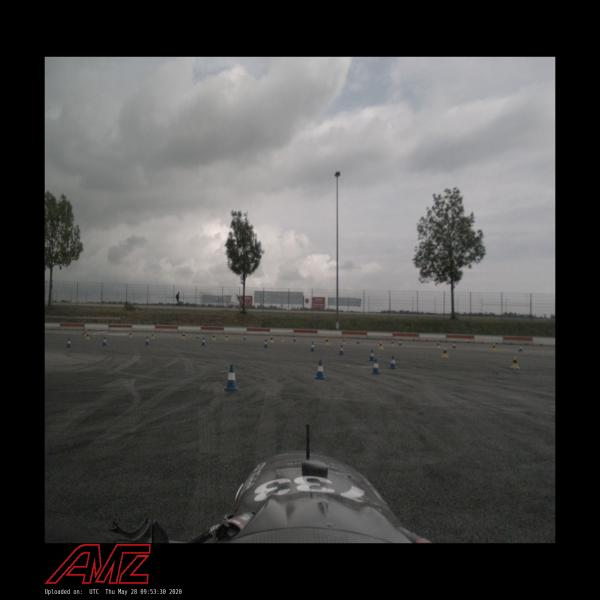blue_cone: (224, 364, 239, 392), (315, 360, 326, 380), (371, 358, 381, 374), (389, 355, 397, 369), (369, 350, 375, 362), (66, 337, 72, 348), (310, 342, 315, 352), (339, 345, 344, 355), (102, 337, 107, 346), (201, 337, 206, 346), (263, 339, 268, 348), (518, 344, 523, 352), (145, 336, 149, 345), (453, 341, 456, 348), (243, 333, 246, 340), (195, 332, 198, 339), (399, 340, 402, 346), (293, 336, 296, 342), (357, 338, 359, 344)
yellow_cone: (511, 356, 520, 369), (441, 348, 448, 357), (378, 341, 384, 350), (85, 332, 91, 340), (150, 332, 156, 340), (492, 342, 496, 352), (270, 334, 274, 343), (212, 333, 216, 341), (325, 337, 329, 345), (390, 340, 394, 348), (224, 333, 228, 341), (182, 332, 186, 340), (342, 338, 346, 345), (128, 331, 132, 338), (436, 341, 440, 347)
